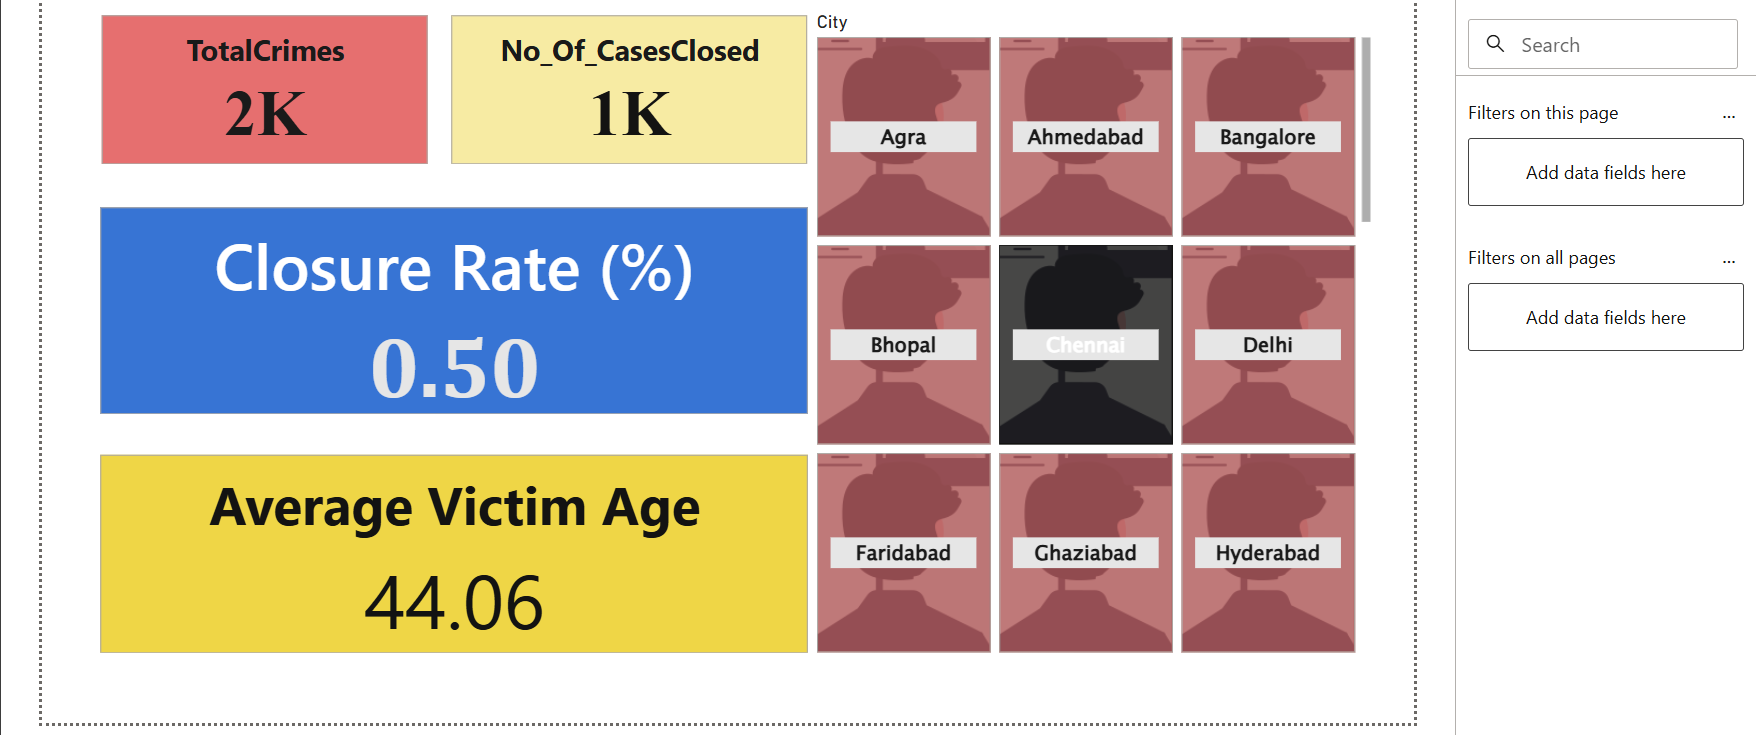

Layout of this report page (visuals, bound fields, positions):
{"tool":"powerbi","page":{"name":"Page 1","canvas":[1280,720],"ordinal":0},"visuals":[{"type":"cardVisual","fields":{"Data":["cleaned_crime_dataset.TotalCrimes"]},"box":[49.7,54.4,314,149.2],"z":0},{"type":"cardVisual","fields":{"Data":["cleaned_crime_dataset.No_Of_CasesClosed"]},"box":[376.1,54.8,342,149.3],"z":1000},{"type":"cardVisual","fields":{"Data":["cleaned_crime_dataset.Closure Rate (%)"]},"box":[48.3,233.3,670.4,203.8],"z":2000},{"type":"advancedSlicerVisual","fields":{"Values":["cleaned_crime_dataset.City"]},"box":[718,56,526,606],"z":3000},{"type":"cardVisual","fields":{"Data":["cleaned_crime_dataset.Average Victim Age"]},"box":[48.3,463.9,670.4,195.8],"z":4000}]}

Visuals, with their boxes on the page's 1280x720 design canvas (x1, y1, x2, y2). These are canvas units, not pixel positions in the 1756x735 screenshot, which may show the page scaled, cropped or inside an application window:
cardVisual - cleaned_crime_dataset.TotalCrimes: <region>50, 54, 364, 204</region>
cardVisual - cleaned_crime_dataset.No_Of_CasesClosed: <region>376, 55, 718, 204</region>
cardVisual - cleaned_crime_dataset.Closure Rate (%): <region>48, 233, 719, 437</region>
advancedSlicerVisual - cleaned_crime_dataset.City: <region>718, 56, 1244, 662</region>
cardVisual - cleaned_crime_dataset.Average Victim Age: <region>48, 464, 719, 660</region>
